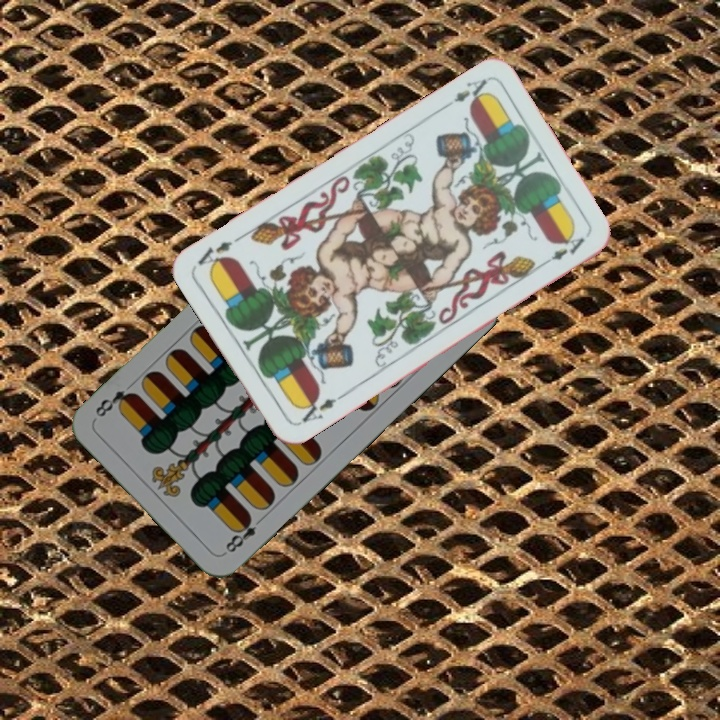E8: (221, 511, 267, 556)
EA: (438, 75, 493, 113), (294, 390, 347, 428)
